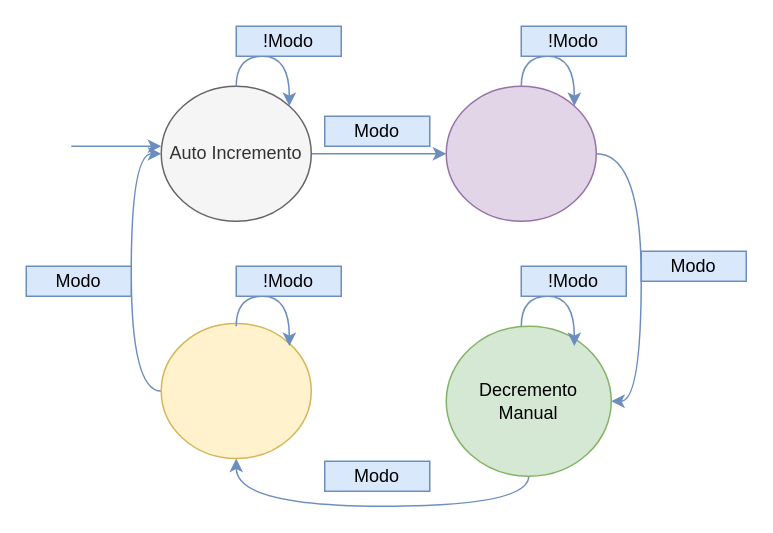
This 773x533 diagram has some shape labels left out. The shapes that lost their labels are listed below. From the top down, each one's centre as x and y in pixels, then its label:
At point 520,153: "Incremento Manual".
At point 235,390: "Lectura ADC Potenciómetro".
